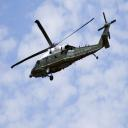helicopter: (12, 13, 117, 84)
